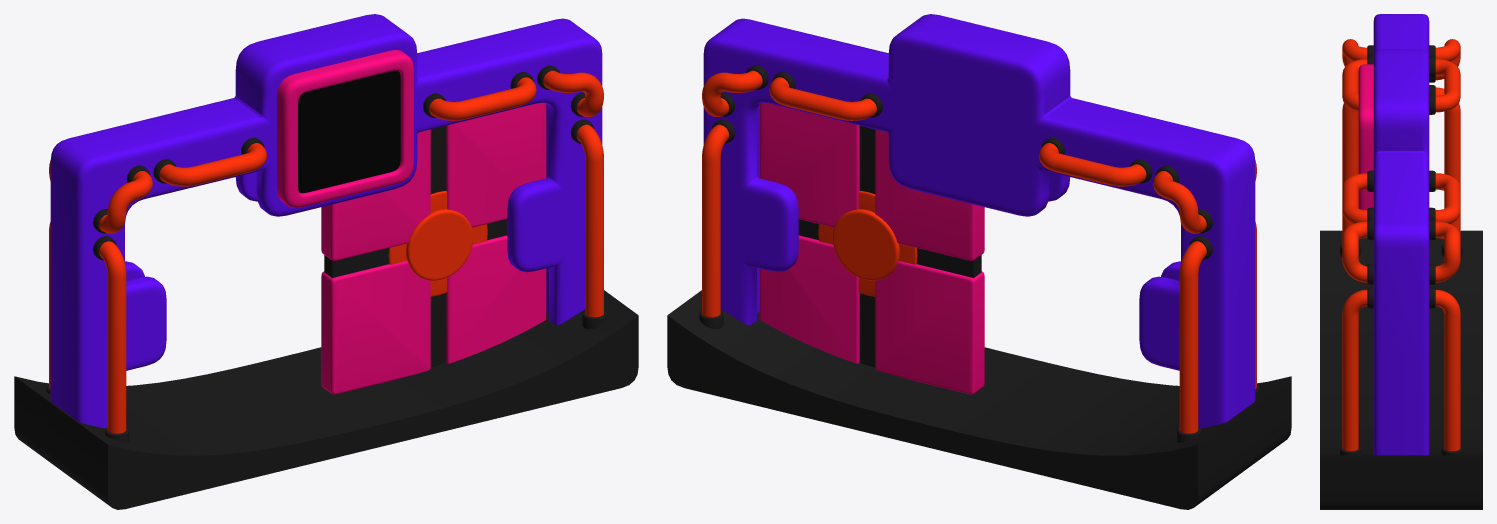
The model's file is Gate.FBX.
The picture shows the model from 3 angles, left to right: view 1: azimuth 30°, elevation 25°; view 2: azimuth 150°, elevation 25°; view 3: azimuth 270°, elevation 25°; orthographic projection. The views are drawn at different scales.
Visible parts, largest first — view 1: Gate, Door; view 2: Gate, Door; view 3: Gate.
Part boxes in pixels (x1,y1,x2,y2): Gate: (14,14,638,509); Door: (321,102,546,394); Gate: (667,14,1291,509); Door: (759,102,984,394); Gate: (1320,14,1482,509).
Bounding box in the file's own units: 4690 × 3180 × 1435.
